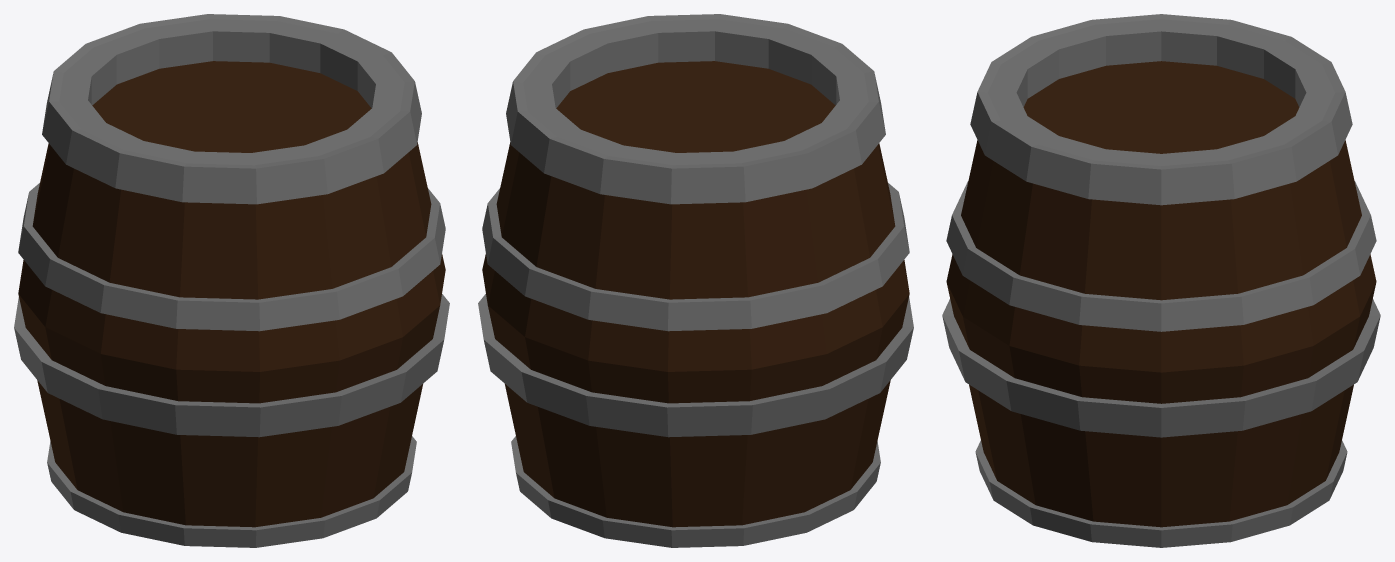
File: barrel_type_01.fbx
The picture shows the model from 3 angles, left to right: view 1: azimuth 30°, elevation 25°; view 2: azimuth 150°, elevation 25°; view 3: azimuth 270°, elevation 25°; orthographic projection.
Parts seen in each view (by area): view 1: barrel_type_01; view 2: barrel_type_01; view 3: barrel_type_01.
Boxes of the visible parts, x1,y1,x2,y2 form: barrel_type_01: (14,14,449,547); barrel_type_01: (478,14,913,547); barrel_type_01: (942,14,1380,547).
Size of the model in its own units: 57.64 by 55.01 by 57.64.
